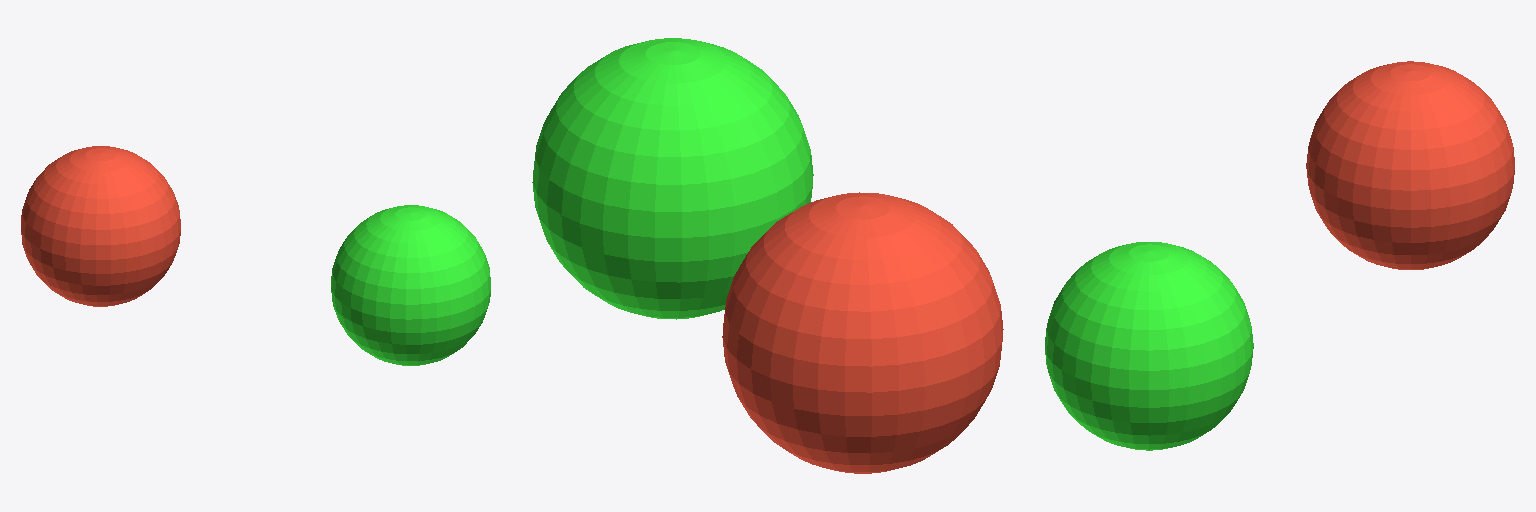
URDF robot description (obstacles):
<?xml version="1.0"?>
<robot name="obstacles"> <!-- two spheres-->
  <link name="obstacle_base">
    <visual>
      <origin xyz="-0.3 0.3 0.8"/>
      <geometry>
        <sphere radius="0.2"/>
      </geometry>
      <material name="Orange">
        <color rgba="1 0.4 0.3 0.6"/>
      </material>
    </visual>
    <collision>
      <origin xyz="-0.3 0.3 0.8"/>
      <geometry>
        <sphere radius="0.2"/>
      </geometry>
    </collision>
  </link>

  <joint name="j_object_one" type="fixed">
    <parent link="obstacle_base"/>
    <child link="l_object_one"/>
    <origin xyz="0 0 0"/>
  </joint>

  <link name="l_object_one">
    <visual>
      <origin xyz="0.3 -0.2 0.7"/>
      <geometry>
        <sphere radius="0.2"/>
      </geometry>
      <material name="Green">
        <color rgba="0.3 1 0.3 0.7"/>
      </material>
    </visual>
    <collision>
      <origin xyz="0.3 -0.2 0.7"/>
      <geometry>
        <sphere radius="0.2"/>
      </geometry>
    </collision>
  </link>
</robot>

--- What the picture shows (computed from the rendered views, not written in the file) ---
The picture shows the robot from 3 angles, left to right: view 1: azimuth 30°, elevation 25°; view 2: azimuth 150°, elevation 25°; view 3: azimuth 270°, elevation 25°; orthographic projection.
Model obstacles with 2 links and 1 joints (1 fixed), rooted at obstacle_base, posed all joints at 0.
Links seen in each view (by area): view 1: obstacle_base, l_object_one; view 2: obstacle_base, l_object_one; view 3: obstacle_base, l_object_one.
Link boxes in pixels (box(x1,y1,x2,y2)): obstacle_base: box(21, 146, 180, 306); l_object_one: box(331, 205, 490, 365); obstacle_base: box(722, 192, 1003, 473); l_object_one: box(532, 38, 813, 319); obstacle_base: box(1306, 61, 1514, 269); l_object_one: box(1045, 242, 1253, 450).
Bounding box of the posed robot: 1 × 0.9 × 0.5 m (x, y, z).
Geometry: primitives only (box / cylinder / sphere), no mesh files.